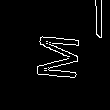M_W: (26, 34, 80, 84)
